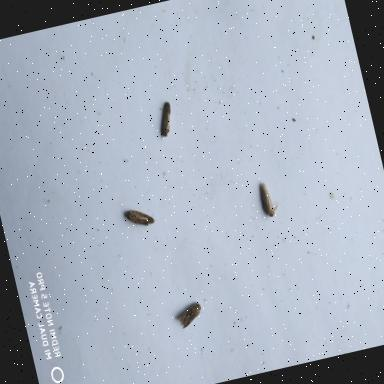pbw: (254, 175, 286, 222), (170, 298, 210, 334), (152, 97, 182, 141), (122, 201, 160, 234)
